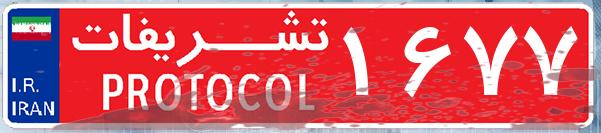1: (340, 20, 400, 115)
6: (400, 20, 460, 115)
7: (460, 20, 520, 115), (520, 20, 580, 115)
تشریفات: (60, 8, 340, 125)
